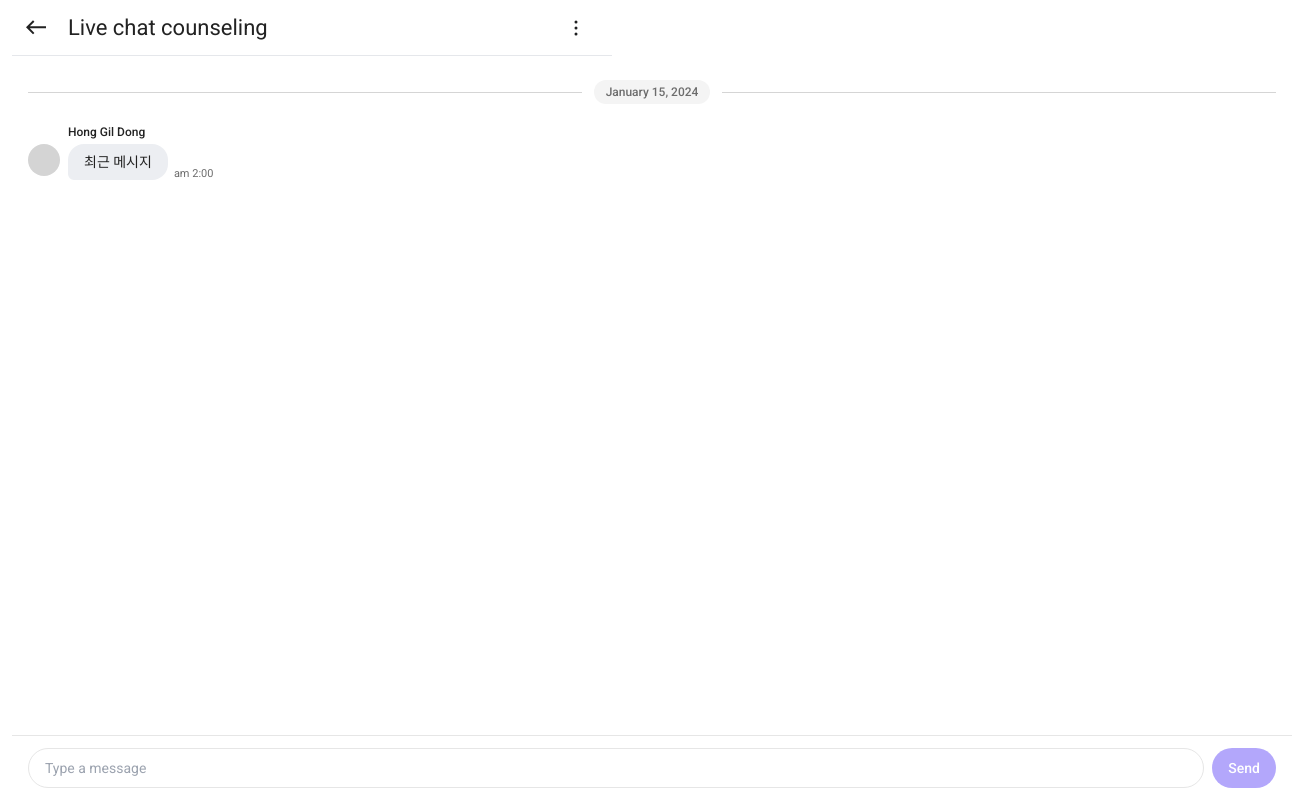
Test: replaces the optimistic message when the websocket echo arrives
Type "No duplicate hello" into the field with placeholder "Type a message" at {"x": 616, "y": 768}, box x1=28 y1=748 x2=1204 y2=788
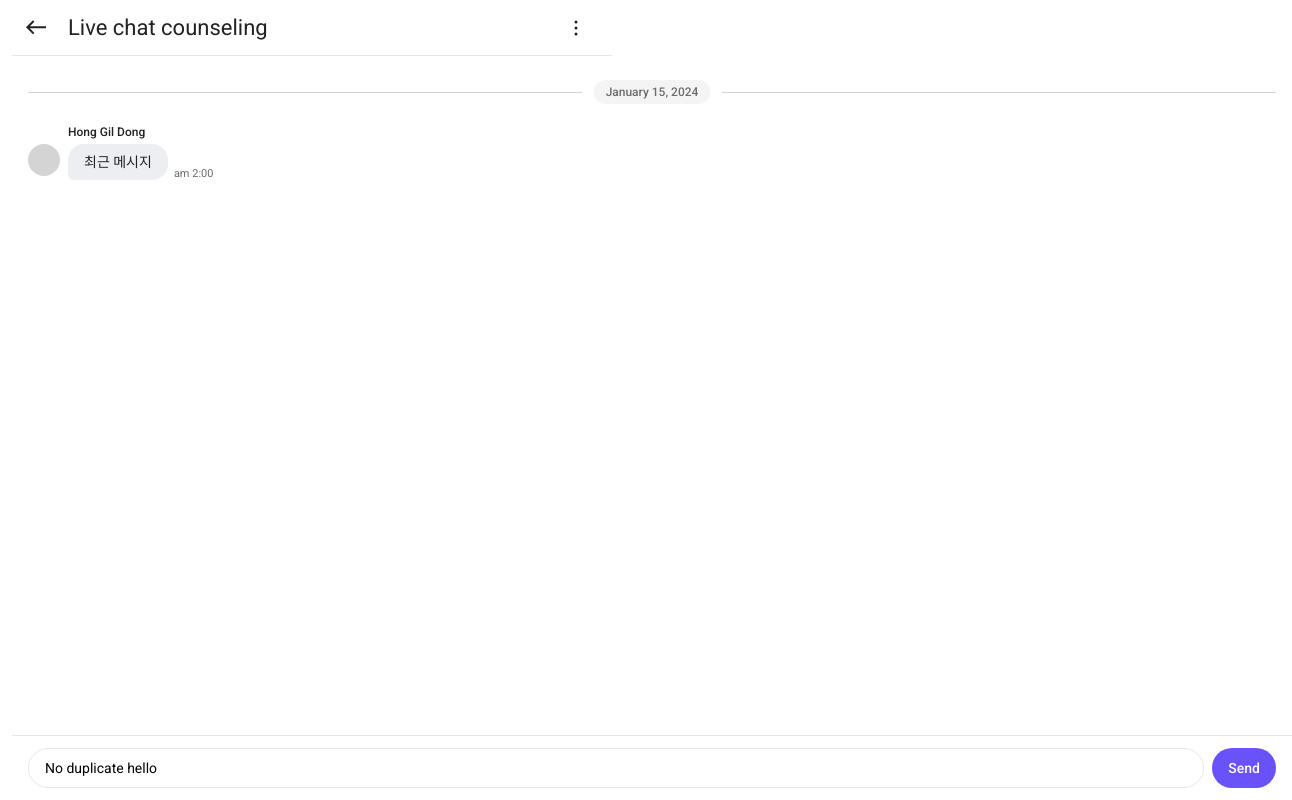
Click the button "Send" at {"x": 1244, "y": 768}, box x1=1212 y1=748 x2=1276 y2=788
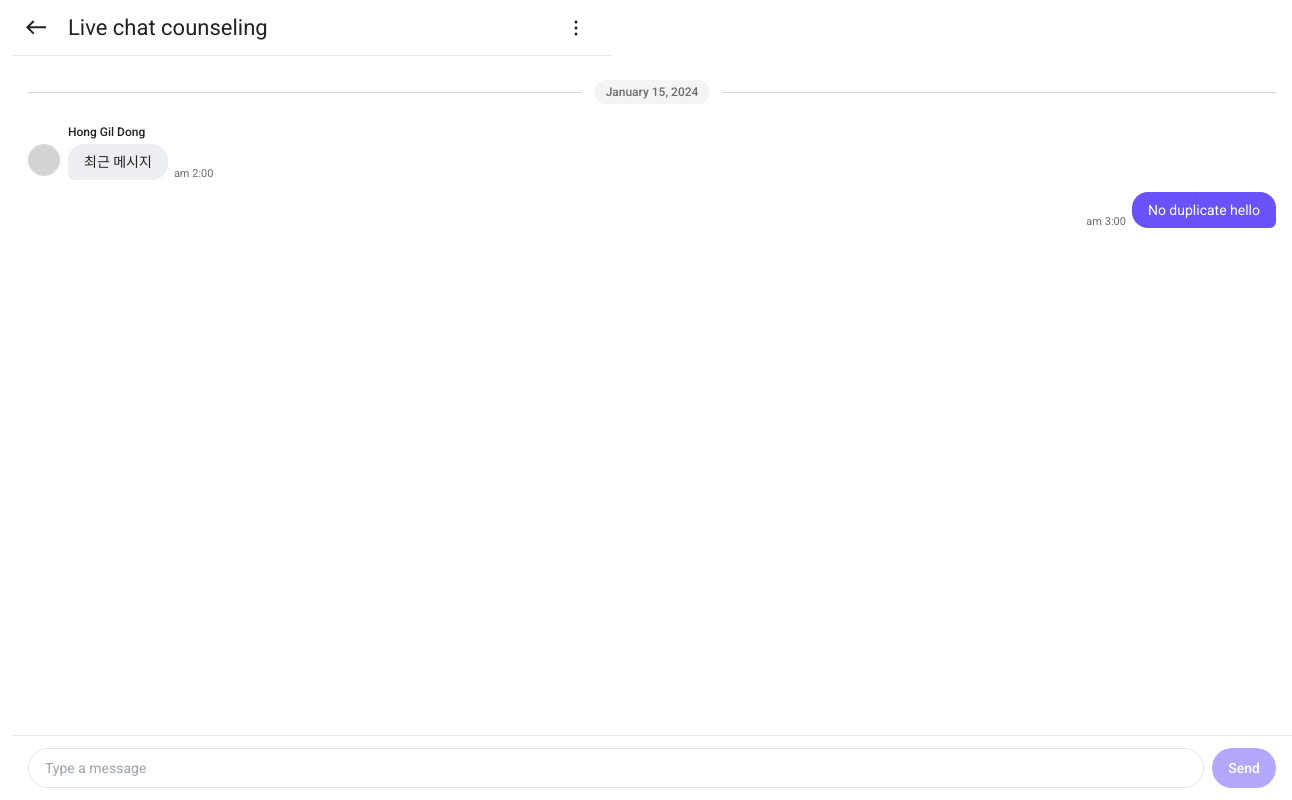
Now the text "No duplicate hello" is shown once, box x1=1132 y1=192 x2=1276 y2=228
